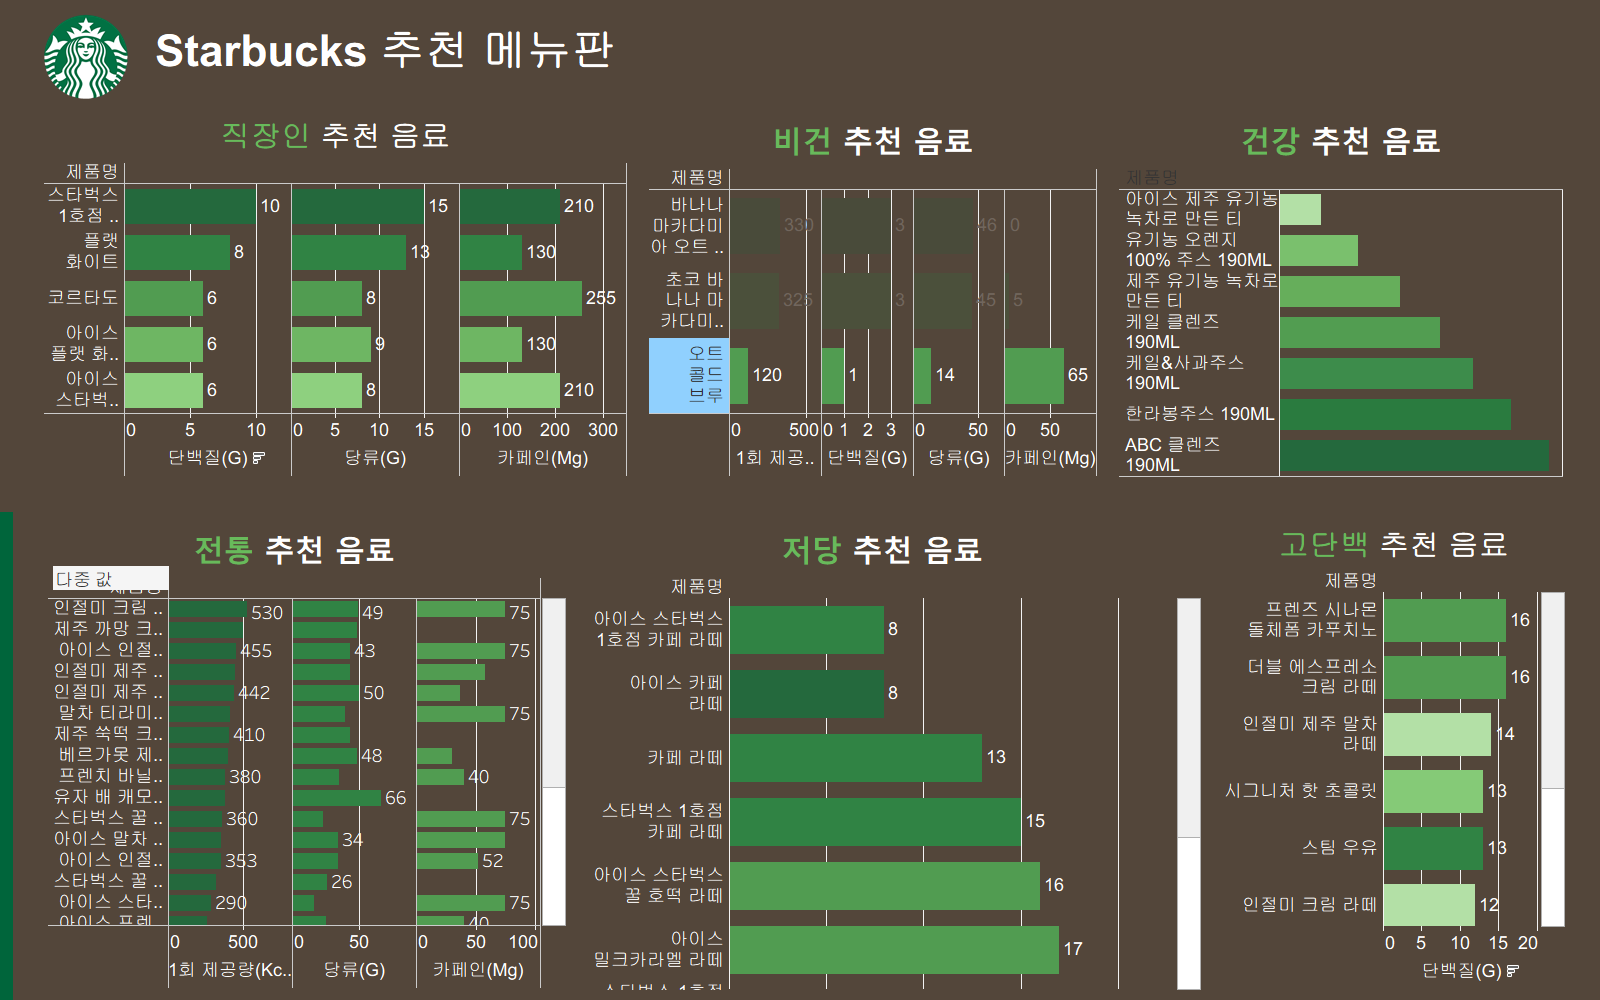

What the dashboard file says about the page in this screenshot:
{"tool":"tableau","page":{"name":"추천 메뉴 대시보드","canvas":[1600,1000],"ordinal":2},"visuals":[{"type":"image","param":"Image/Starbucks-3.png","box":[0,0,151,103]},{"type":"text","box":[151,0,1449,103]},{"type":"blank","box":[0,103,33,385]},{"type":"worksheet","title":"사회인 추천메뉴","mark":"Automatic","rows":["제품명"],"cols":["단백질(g)","당류(g)","카페인(mg)"],"box":[33,103,605.1,385]},{"type":"worksheet","title":"비건 추천 메뉴","mark":"Automatic","rows":["제품명"],"cols":["1회 제공량(kcal)","단백질(g)","당류(g)","카페인(mg)"],"box":[638.1,103,469.6,385]},{"type":"worksheet","title":"건강 추천 음료","mark":"Bar","rows":["제품명"],"box":[1107.7,103,466.3,385]},{"type":"blank","box":[1574,103,26,385]},{"type":"blank","box":[13.1,421.5,32.7,580]},{"type":"blank","box":[0,488,1600,24]},{"type":"blank","box":[0,512,37,488]},{"type":"worksheet","title":"전통 음료","mark":"Automatic","rows":["제품명"],"cols":["1회 제공량(kcal)","당류(g)","카페인(mg)"],"box":[37,512,541,488]},{"type":"worksheet","title":"저당","mark":"Automatic","rows":["제품명"],"cols":["당류(g)"],"box":[578,512,634,488]},{"type":"worksheet","title":"고단백 음료","mark":"Automatic","rows":["제품명"],"cols":["단백질(g)"],"box":[1212,512,364,488]},{"type":"blank","box":[1576,512,24,488]},{"type":"filter","title":"전통 음료","param":"[federated.0x8ekaa09qmpkm1dmuopp1hnyhe2(2 복사본)].[none:Calculation_19618331798241","box":[53,566,116,24]}]}

Visuals, with their boxes in screenshot pixels (x1, y1, x2, y2), scaled from the page's 1600x1000 canvas onto the 1600x1000 screenshot:
image: left=0, top=0, right=151, bottom=103
text: left=151, top=0, right=1599, bottom=103
blank: left=0, top=103, right=33, bottom=488
"사회인 추천메뉴" worksheet: left=33, top=103, right=638, bottom=488
"비건 추천 메뉴" worksheet: left=638, top=103, right=1108, bottom=488
"건강 추천 음료" worksheet (Bar marks): left=1108, top=103, right=1574, bottom=488
blank: left=1574, top=103, right=1599, bottom=488
blank: left=13, top=422, right=46, bottom=999
blank: left=0, top=488, right=1599, bottom=512
blank: left=0, top=512, right=37, bottom=999
"전통 음료" worksheet: left=37, top=512, right=578, bottom=999
"저당" worksheet: left=578, top=512, right=1212, bottom=999
"고단백 음료" worksheet: left=1212, top=512, right=1576, bottom=999
blank: left=1576, top=512, right=1599, bottom=999
"전통 음료" filter: left=53, top=566, right=169, bottom=590
